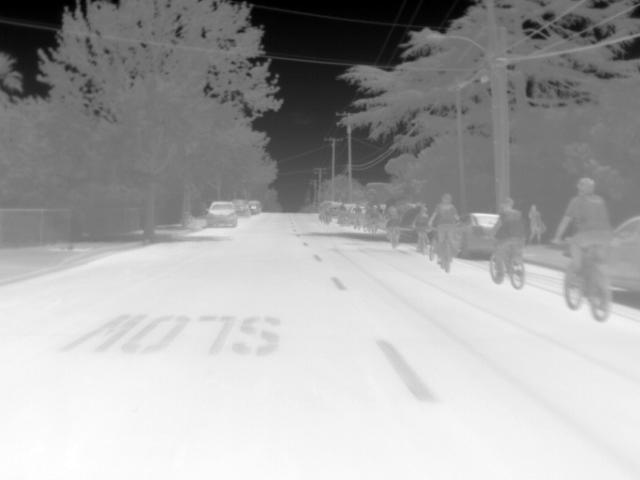car: (605, 214, 639, 295), (458, 211, 498, 260), (205, 200, 239, 228), (230, 198, 250, 216), (246, 200, 262, 214)
person: (554, 178, 609, 308), (430, 193, 463, 257), (527, 204, 547, 248), (384, 202, 404, 243), (412, 204, 430, 248)
